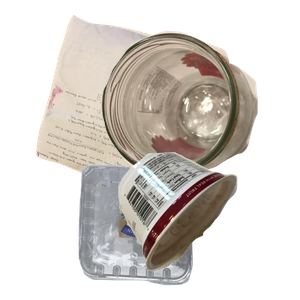glass: (98, 29, 300, 198)
paper: (33, 12, 214, 192)
plastic: (76, 162, 264, 300)
trash: (116, 149, 300, 300)
